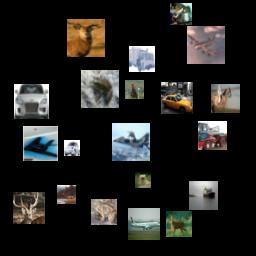airplane: (112, 123, 150, 161), (187, 26, 225, 64), (23, 126, 58, 161), (128, 208, 160, 240)
automobile: (14, 84, 49, 119), (161, 82, 193, 114), (64, 140, 80, 156)
bird: (170, 3, 192, 25)
deer: (67, 19, 105, 57), (13, 192, 45, 224), (166, 211, 192, 237), (57, 185, 76, 204)
dog: (135, 172, 151, 188)
frog: (81, 70, 119, 108), (91, 199, 117, 225)
ship: (189, 181, 218, 210)
truck: (198, 121, 227, 150), (129, 46, 155, 72)
